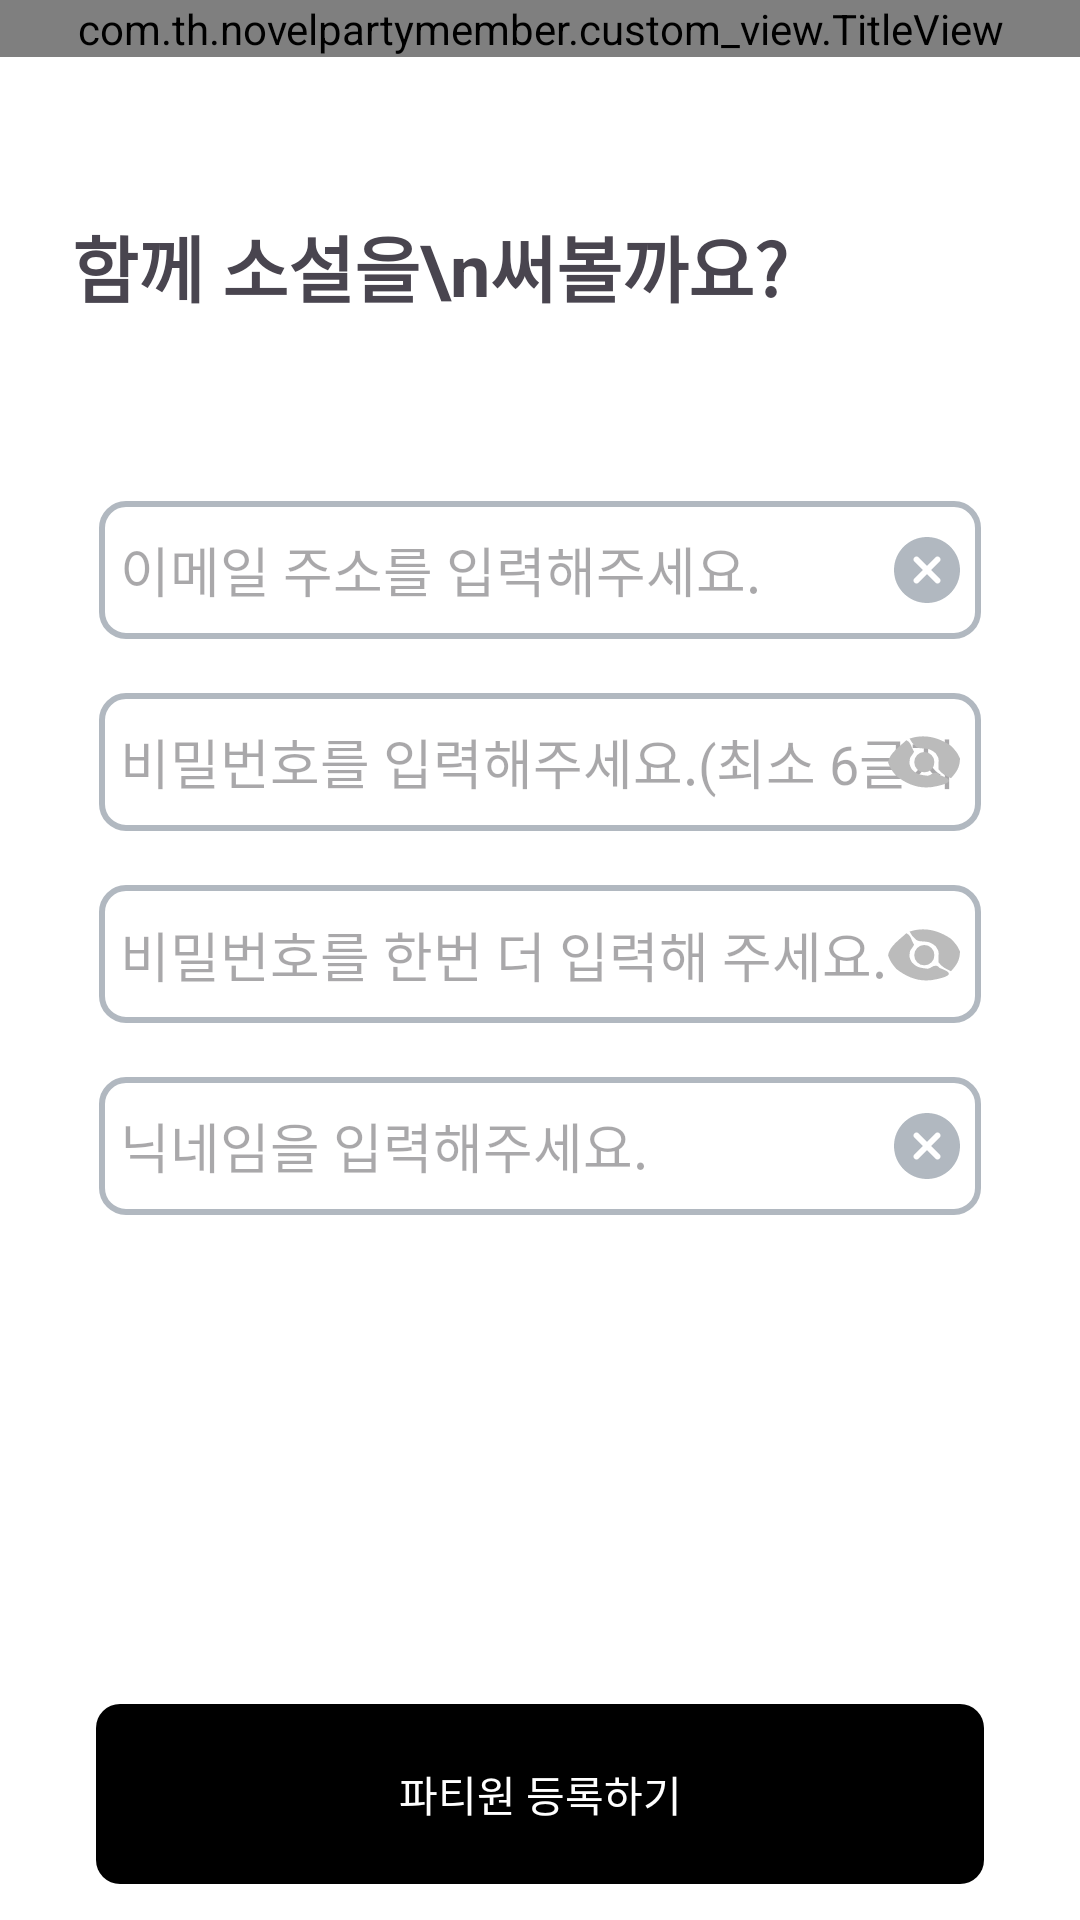

Named icons in this screenshot (1080w x 1920h) and their centers, (x=x, y=y):
clear: (x=927, y=570), (x=927, y=1146)
